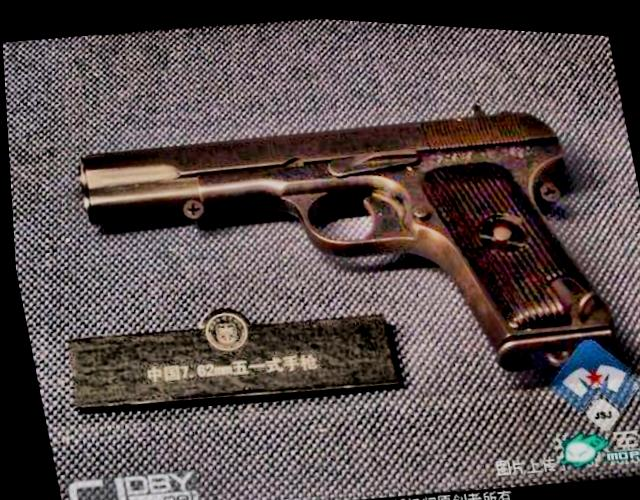pistol: (64, 67, 619, 439)
